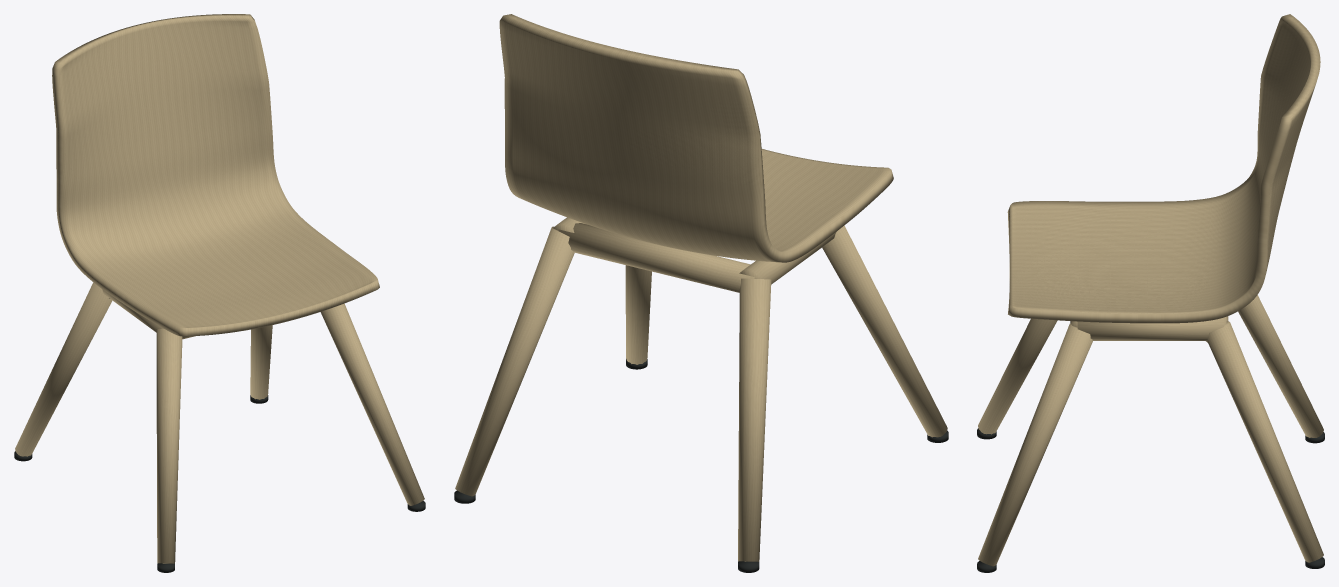
The model's file is lod0_source.glb.
3 renders of one model, left to right at view 1: azimuth 30°, elevation 25°; view 2: azimuth 150°, elevation 25°; view 3: azimuth 270°, elevation 25°, orthographic. The views are drawn at different scales.
Parts seen in each view (by area): view 1: Pale continuous scooped plywood seat and back, Pale front splayed leg -1, Pale front splayed leg 1, Pale rear splayed leg -1, Pale rear splayed leg 1; view 2: Pale continuous scooped plywood seat and back, Pale rear splayed leg -1, Pale rear splayed leg 1, Pale front splayed leg -1, Underseat rear wood crosspiece, Pale front splayed leg 1, Underseat wood side stretcher -1; view 3: Pale continuous scooped plywood seat and back, Pale rear splayed leg 1, Pale front splayed leg 1, Pale rear splayed leg -1, Pale front splayed leg -1, Underseat wood side stretcher 1.
Boxes of the visible parts, x1,y1,x2,y2 form: Pale continuous scooped plywood seat and back: (52, 14, 379, 336); Pale front splayed leg -1: (156, 328, 182, 563); Pale front splayed leg 1: (320, 303, 424, 505); Pale rear splayed leg -1: (15, 282, 112, 456); Pale rear splayed leg 1: (250, 325, 272, 399); Pale continuous scooped plywood seat and back: (499, 14, 893, 262); Pale rear splayed leg -1: (738, 278, 771, 561); Pale rear splayed leg 1: (455, 226, 574, 496); Pale front splayed leg -1: (822, 225, 947, 437); Underseat rear wood crosspiece: (558, 223, 754, 292); Pale front splayed leg 1: (625, 265, 651, 364); Underseat wood side stretcher -1: (739, 231, 836, 284); Pale continuous scooped plywood seat and back: (1007, 14, 1320, 323); Pale rear splayed leg 1: (1207, 321, 1323, 562); Pale front splayed leg 1: (978, 323, 1092, 566); Pale rear splayed leg -1: (1238, 295, 1323, 437); Pale front splayed leg -1: (978, 318, 1057, 434); Underseat wood side stretcher 1: (1077, 317, 1224, 340).
Size of the model in its own units: 0.584 by 0.8492 by 0.605.
Materials: 2 (1 with a texture image).
